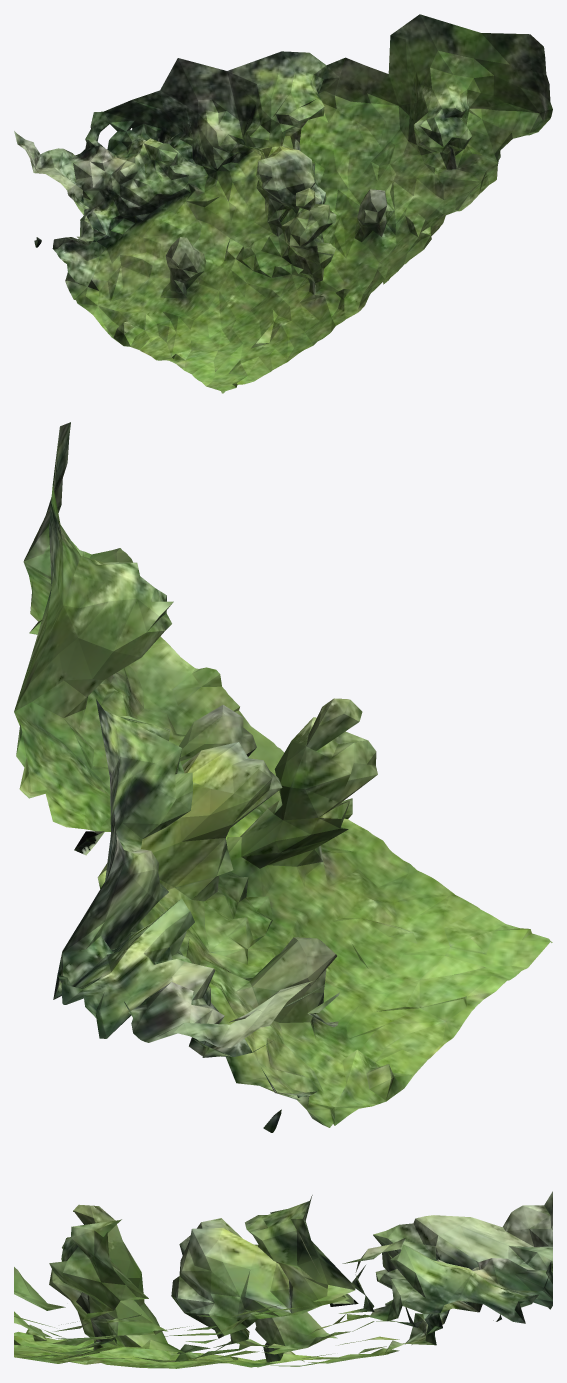
The picture shows the model from 3 angles, top to bottom: view 1: azimuth 30°, elevation 25°; view 2: azimuth 150°, elevation 25°; view 3: azimuth 270°, elevation 25°; orthographic projection. The views are drawn at different scales.
Bounding box in the file's own units: 48.41 × 41.32 × 52.22.
Materials: 4 (4 with a texture image).
